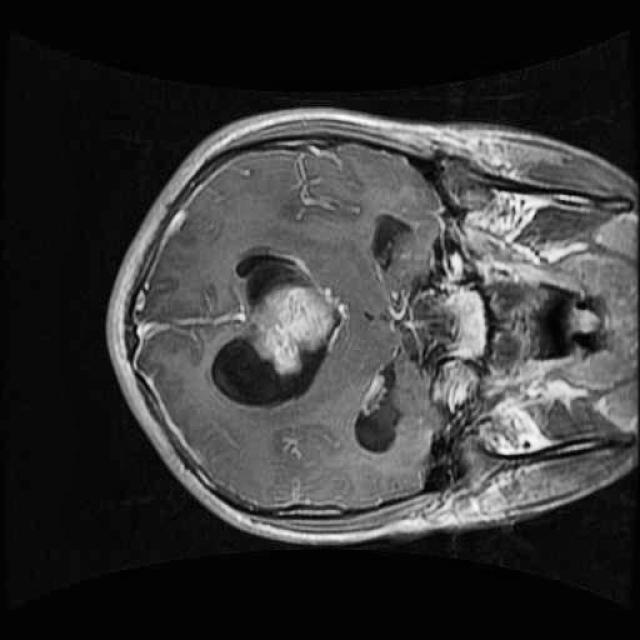Tumor: (239, 272, 350, 386)
